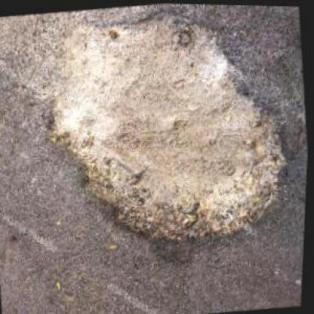Hueco: (18, 0, 307, 281)
